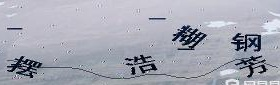chinese: (6, 53, 43, 81), (124, 53, 161, 78), (172, 25, 206, 51), (229, 30, 267, 53), (236, 58, 271, 80)
